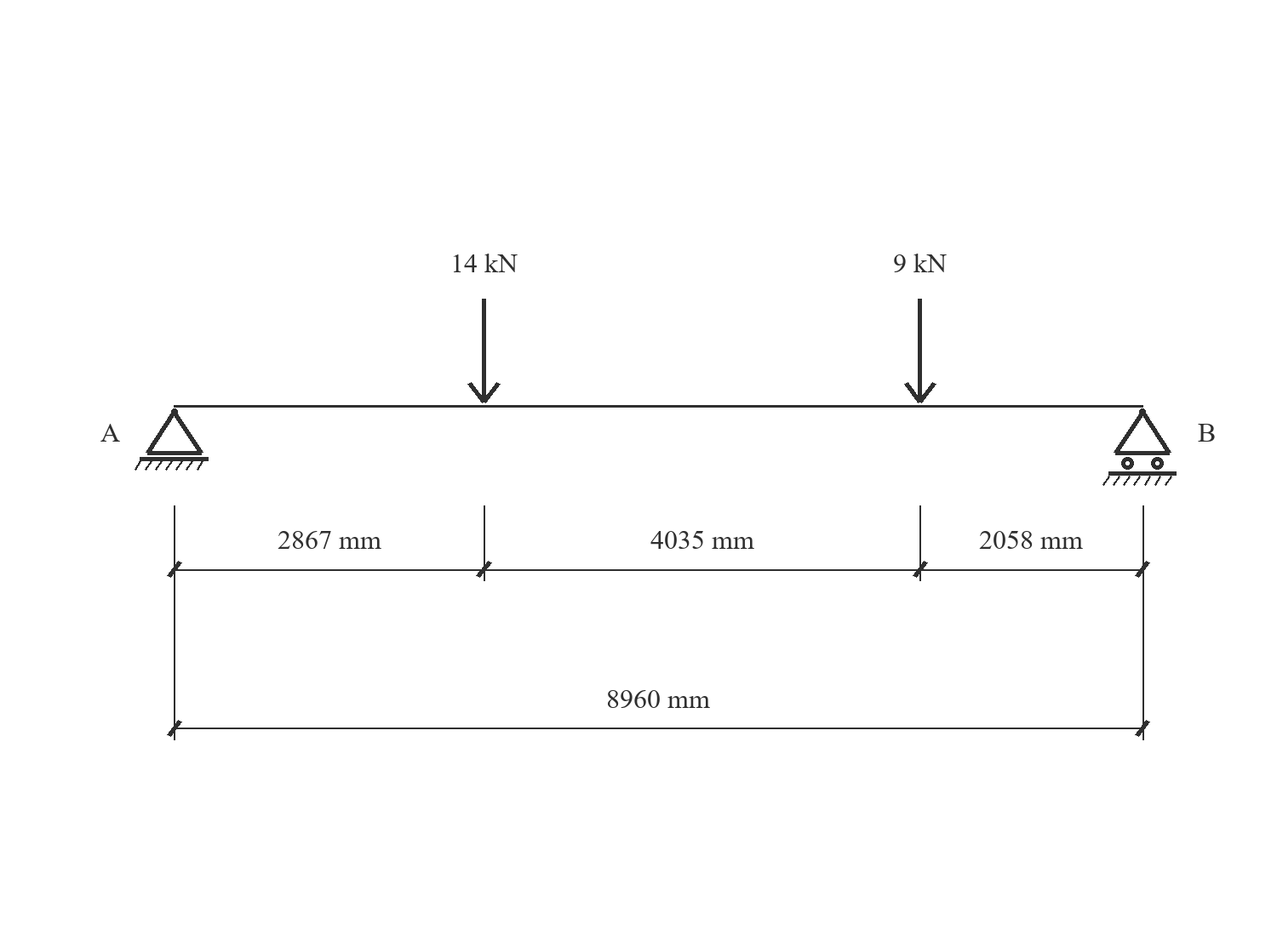pin_support: (135, 408, 209, 471)
point_load: (467, 299, 501, 403), (904, 299, 936, 403)
roller_support: (1102, 408, 1177, 486)
